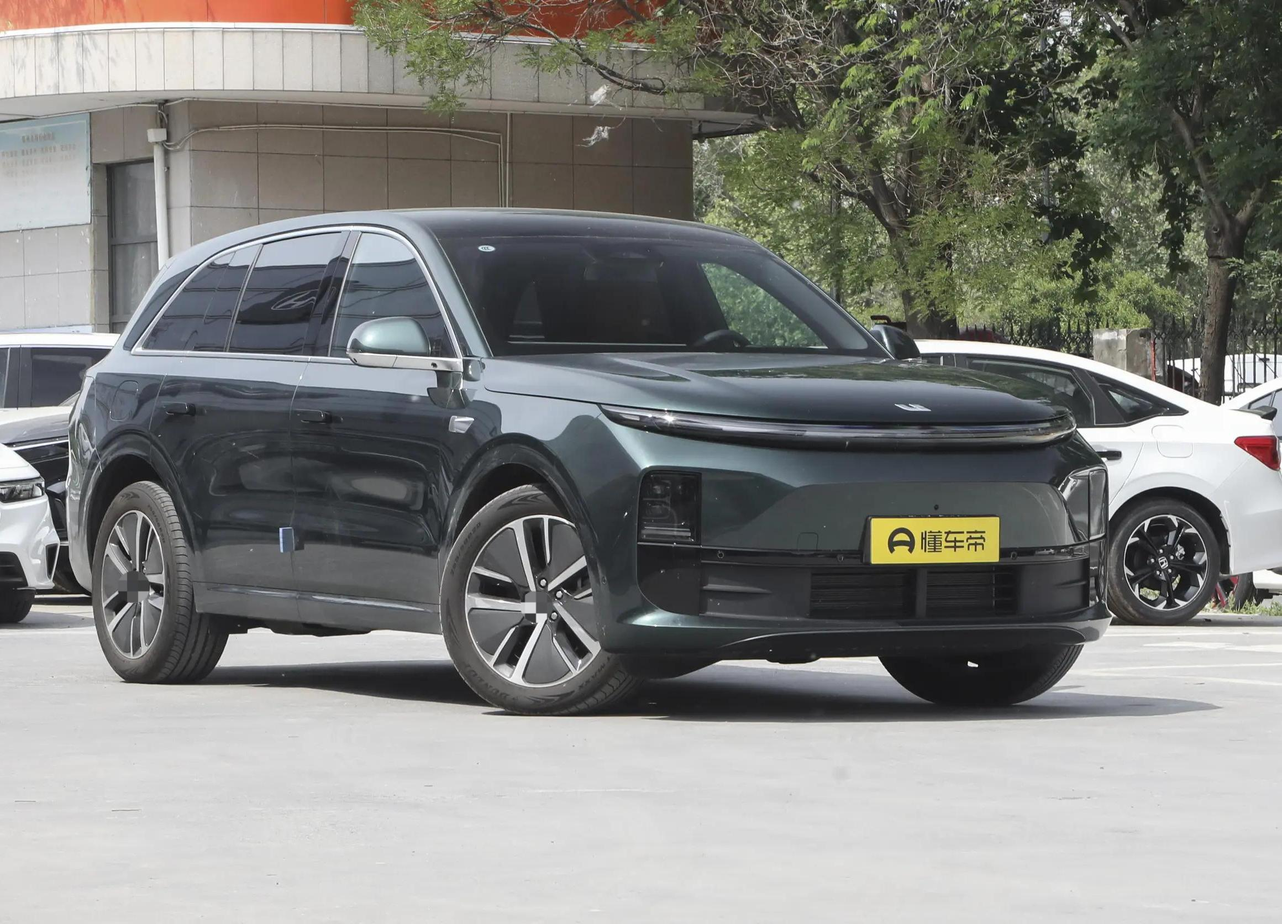Li Auto: (894, 402, 932, 411)
